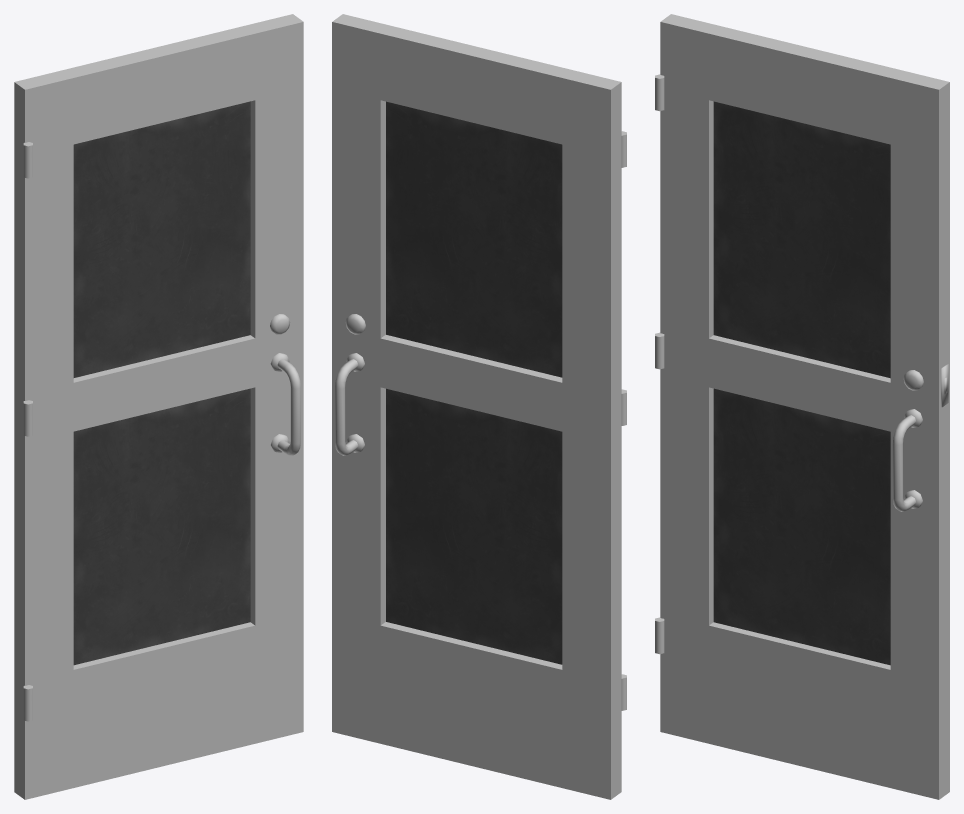
The model's file is Door_main.fbx.
3 renders of one model, left to right at view 1: azimuth 30°, elevation 25°; view 2: azimuth 150°, elevation 25°; view 3: azimuth 330°, elevation 25°, orthographic.
Visible parts, largest first — view 1: Door_main, DoorMain_glass; view 2: Door_main, DoorMain_glass; view 3: Door_main, DoorMain_glass.
Part boxes in pixels (bbox=[...]): Door_main: bbox=[14, 14, 303, 799]; DoorMain_glass: bbox=[73, 101, 250, 665]; Door_main: bbox=[332, 14, 626, 799]; DoorMain_glass: bbox=[386, 101, 562, 664]; Door_main: bbox=[655, 14, 949, 799]; DoorMain_glass: bbox=[713, 101, 890, 665].
Size of the model in its own units: 91.6 by 219 by 27.54.
